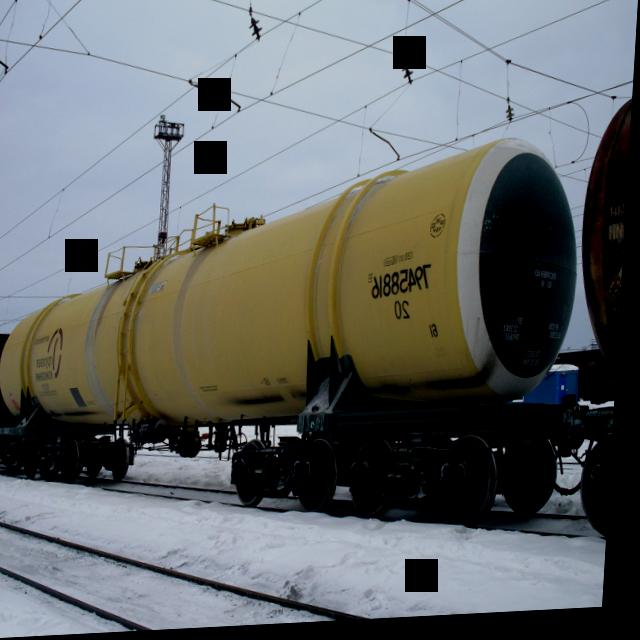gondola: (0, 318, 17, 476)
tank: (0, 122, 590, 565), (568, 84, 635, 568)
